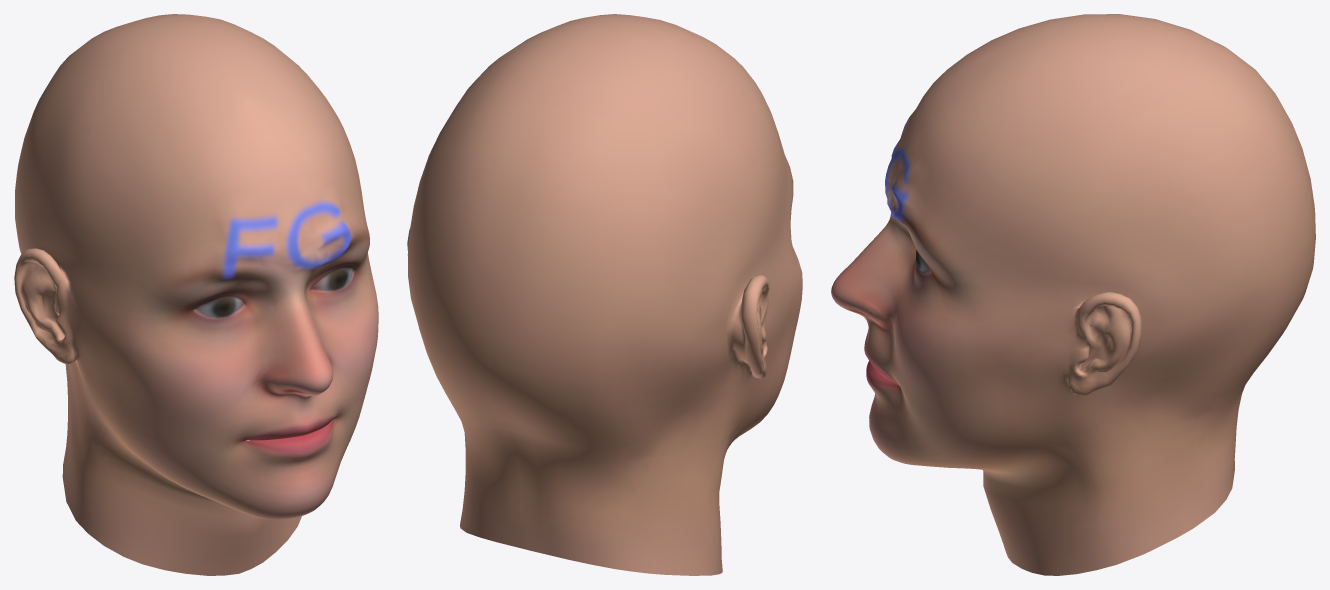
File: avg_european_female.obj
3 views of the same model, side by side, from view 1: azimuth 30°, elevation 25°; view 2: azimuth 150°, elevation 25°; view 3: azimuth 270°, elevation 25° (orthographic). The views are drawn at different scales.
Parts seen in each view (by area): view 1: HeadHires; view 2: HeadHires; view 3: HeadHires.
Boxes of the visible parts, x1=… form: HeadHires: x1=14, y1=14, x2=378, y2=575; HeadHires: x1=407, y1=14, x2=802, y2=575; HeadHires: x1=831, y1=14, x2=1315, y2=575.
Bounding box in the file's own units: 189 × 283 × 238.
Materials: 1 (1 with a texture image).
